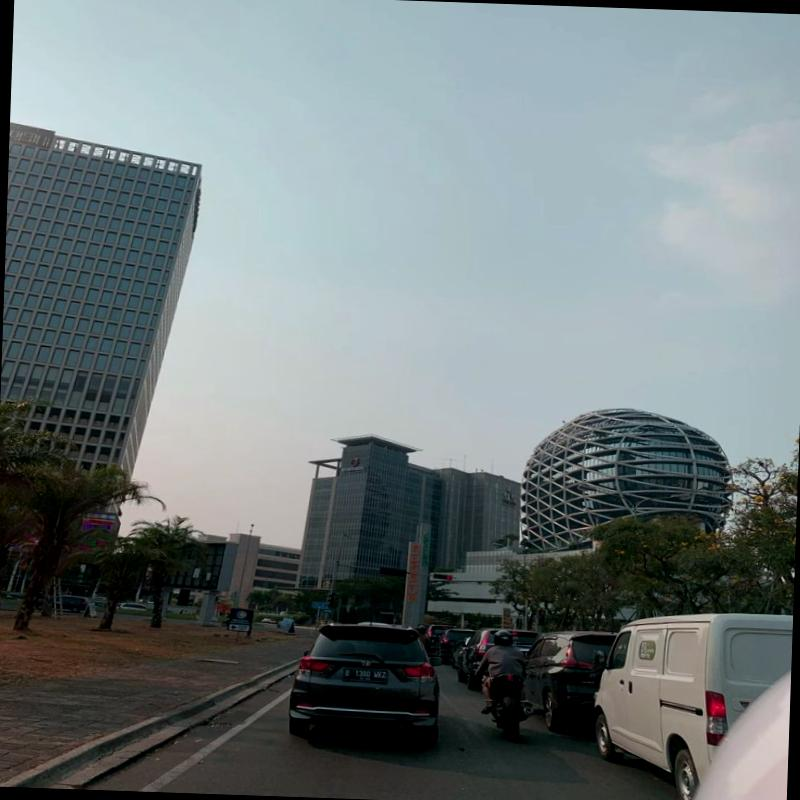license plate on a car: (344, 668, 386, 683)
